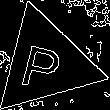P_N: (22, 34, 70, 92)
